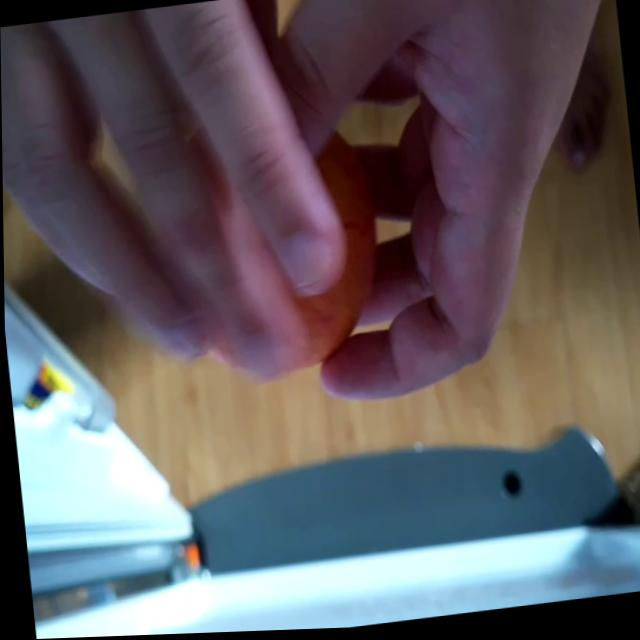apple: (218, 128, 397, 364)
